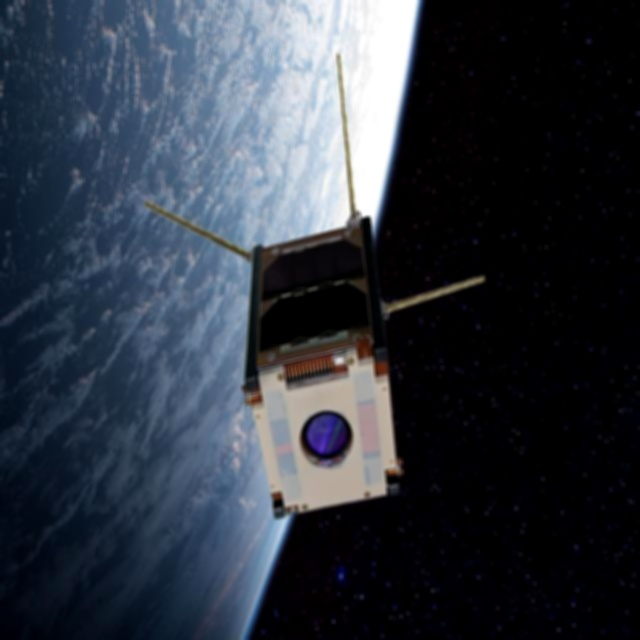satellite: (202, 138, 478, 521)
